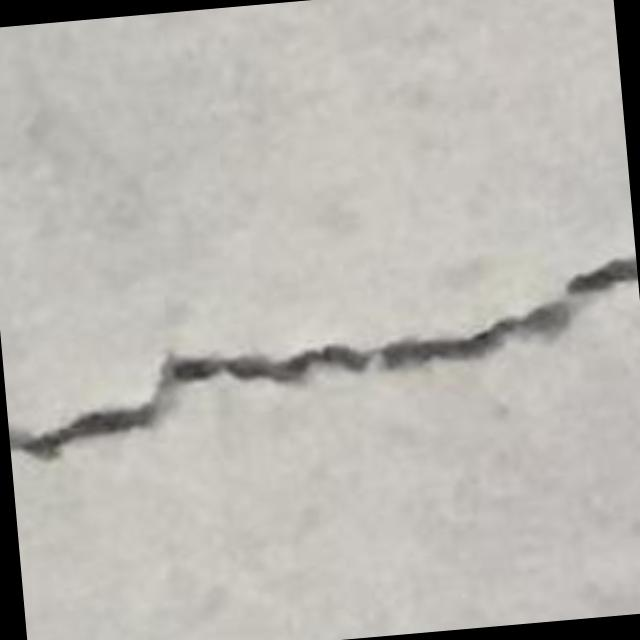crack: (9, 258, 637, 460)
